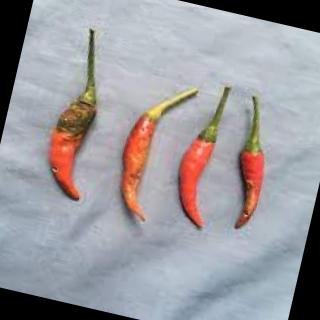Cabai Merah: (120, 88, 196, 222), (48, 29, 97, 201), (177, 102, 222, 227), (238, 97, 265, 230)
